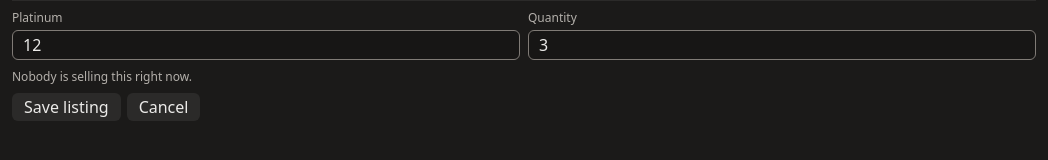
editing a listing › names the bound that was crossed, on the field that crossed it
Replace the text in the number field labelled "Quantity" with "9" at (782, 45), box [528,30,1036,60]
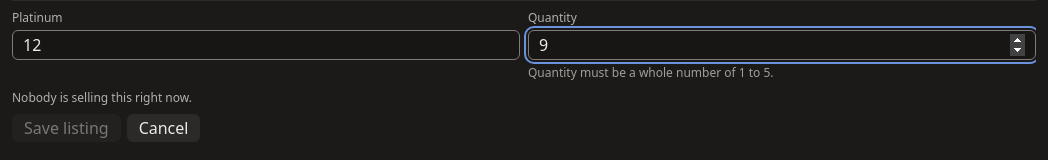
Check: the number field labelled "Quantity" is marked as invalid
Replace the text in the number field labelled "Quantity" with "1" at (782, 45), box [528,30,1036,60]
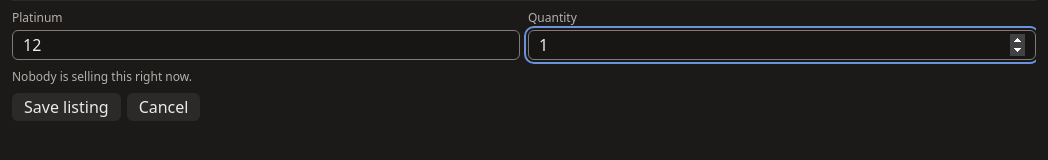
Check: the button "Save listing" is enabled, box [12,93,121,121]
